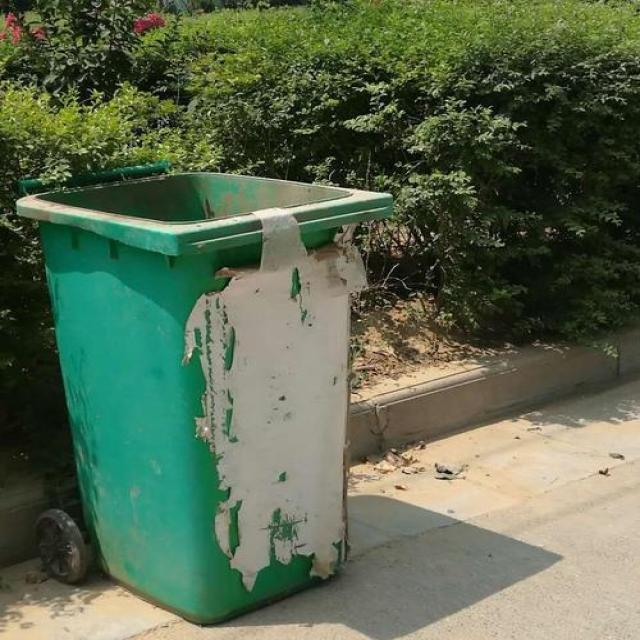garbage_bin: (14, 162, 392, 622)
